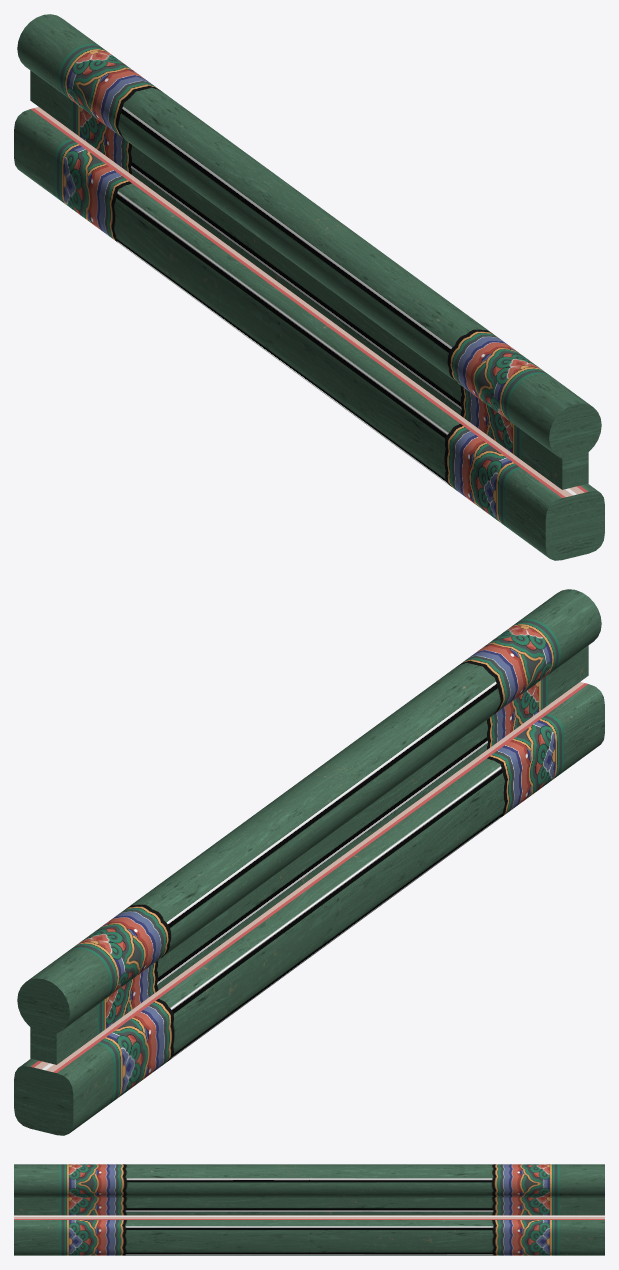
Rendered from SM_CGJ_Purlin06d.fbx.
The picture shows the model from 3 angles, top to bottom: view 1: azimuth 30°, elevation 25°; view 2: azimuth 150°, elevation 25°; view 3: azimuth 270°, elevation 25°; orthographic projection. The views are drawn at different scales.
Parts seen in each view (by area): view 1: SM_CGJ_Purlin06d; view 2: SM_CGJ_Purlin06d; view 3: SM_CGJ_Purlin06d.
Boxes of the visible parts, left/top/right/bottom form: SM_CGJ_Purlin06d: left=14, top=14, right=604, bottom=560; SM_CGJ_Purlin06d: left=14, top=589, right=604, bottom=1135; SM_CGJ_Purlin06d: left=14, top=1164, right=604, bottom=1255.
Size of the model in its own units: 22.5 by 350 by 55.49.
Materials: 1 (1 with a texture image).
